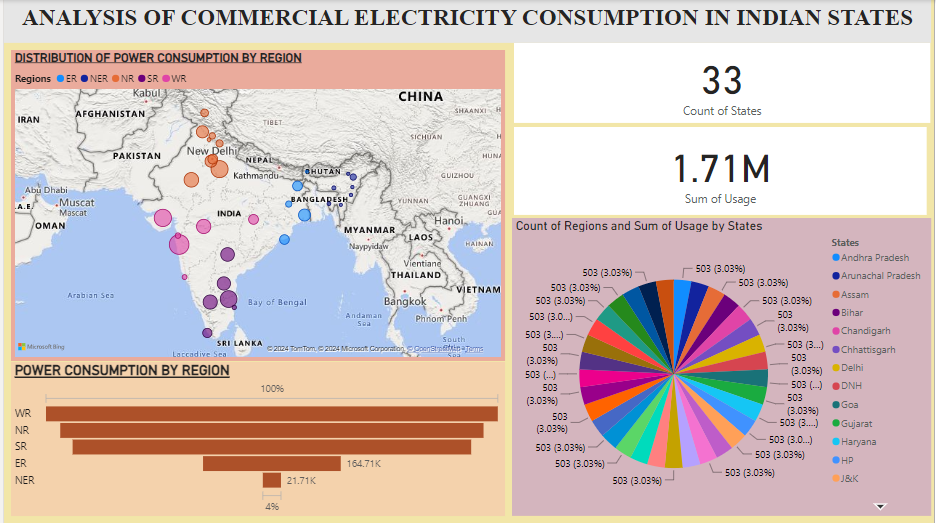

Layout of this report page (visuals, bound fields, positions):
{"tool":"powerbi","page":{"name":"Page 2","canvas":[1280,720],"ordinal":1},"visuals":[{"type":"card","fields":{"Values":["Count(2_data.States)"]},"box":[701.9,59.2,572.6,109.7],"z":0,"group":"g1"},{"type":"map","title":"DISTRIBUTION OF POWER CONSUMPTION BY REGION","fields":{"Series":["2_data.Regions"],"Category":["2_data.States"],"Size":["Sum(2_data.Usage)"],"X":["Avg(2_data.longitude)"],"Y":["Avg(2_data.latitude)"]},"box":[9.6,68.8,679.9,428],"z":0},{"type":"group","id":"g1","title":"Group 1","box":[701.9,59.2,572.6,236.7],"z":1000},{"type":"card","fields":{"Values":["Sum(2_data.Usage)"]},"box":[701.9,174.6,568.4,121.3],"z":1000,"group":"g1"},{"type":"pieChart","fields":{"Y":["CountNonNull(2_data.Regions)"],"Category":["2_data.States"]},"box":[699.2,300,576.7,410.2],"z":2000},{"type":"funnel","title":"POWER CONSUMPTION BY REGION","fields":{"Category":["2_data.Regions"],"Y":["Sum(2_data.Usage)"]},"box":[9.6,498.2,679.9,212],"z":3000},{"type":"textbox","box":[0,0,1275.9,59.2],"z":3001}]}

Visuals, with their boxes in screenshot pixels (x1, y1, x2, y2), scaled from the page's 1280x720 canvas onto the 936x523 screenshot:
card - Count(2_data.States): (left=513, top=43, right=932, bottom=123)
"DISTRIBUTION OF POWER CONSUMPTION BY REGION" map: (left=7, top=50, right=504, bottom=361)
"Group 1" group: (left=513, top=43, right=932, bottom=215)
card - Sum(2_data.Usage): (left=513, top=127, right=929, bottom=215)
pieChart - CountNonNull(2_data.Regions) x 2_data.States: (left=511, top=218, right=933, bottom=516)
"POWER CONSUMPTION BY REGION" funnel: (left=7, top=362, right=504, bottom=516)
textbox: (left=0, top=0, right=933, bottom=43)
